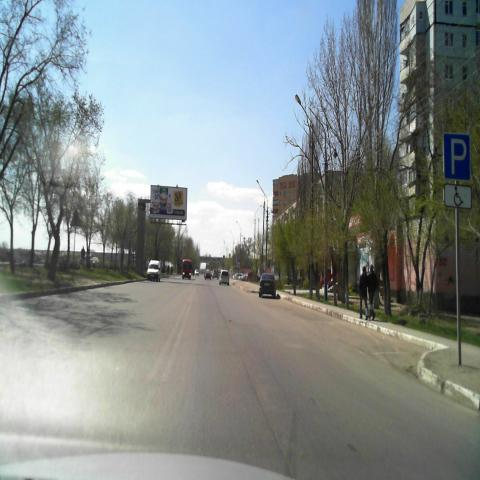8_17: (443, 183, 472, 209)
